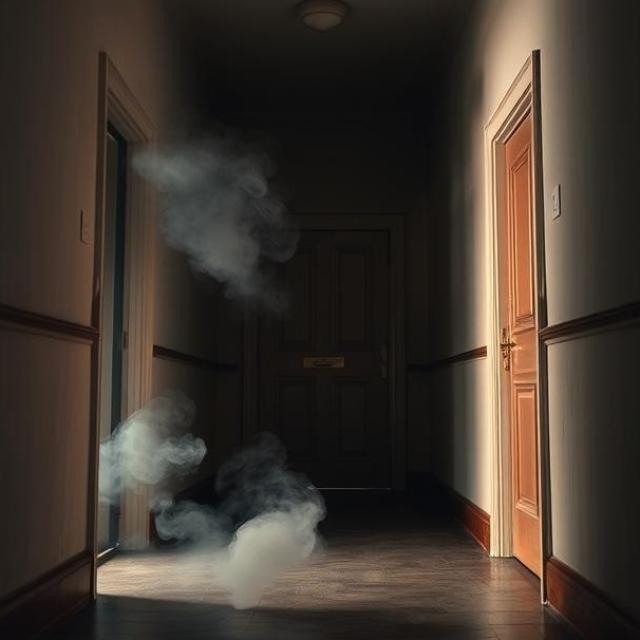fire: (103, 388, 325, 608), (130, 126, 300, 326)
